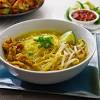soto: (1, 22, 96, 90)
